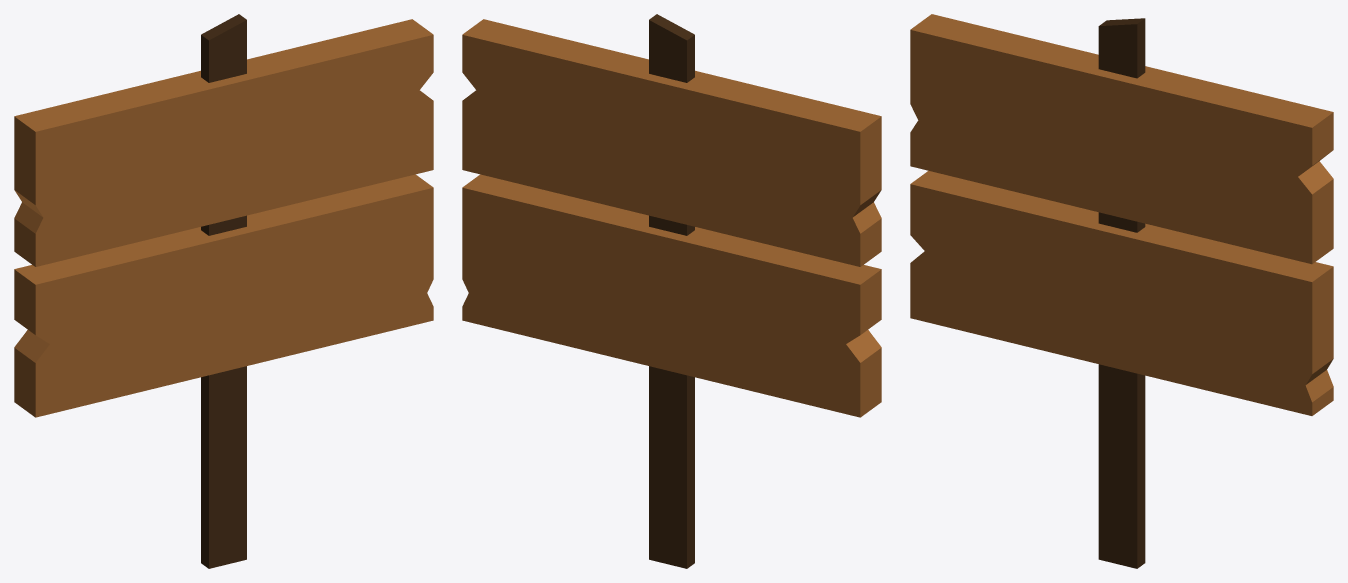
The model's file is sign.glb.
The picture shows the model from 3 angles, left to right: view 1: azimuth 30°, elevation 25°; view 2: azimuth 150°, elevation 25°; view 3: azimuth 330°, elevation 25°; orthographic projection.
Visible parts, largest first — view 1: Cube; view 2: Cube; view 3: Cube.
Part boxes in pixels (x1=…): Cube: x1=14, y1=14, x2=433, y2=568; Cube: x1=462, y1=14, x2=881, y2=568; Cube: x1=910, y1=14, x2=1333, y2=568.
Bounding box in the file's own units: 1.63 × 2.11 × 0.1515.
